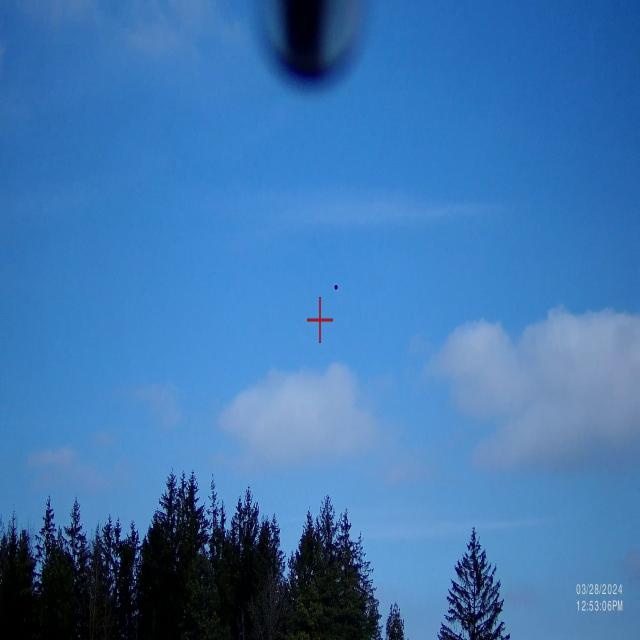entire: (333, 280, 342, 290)
